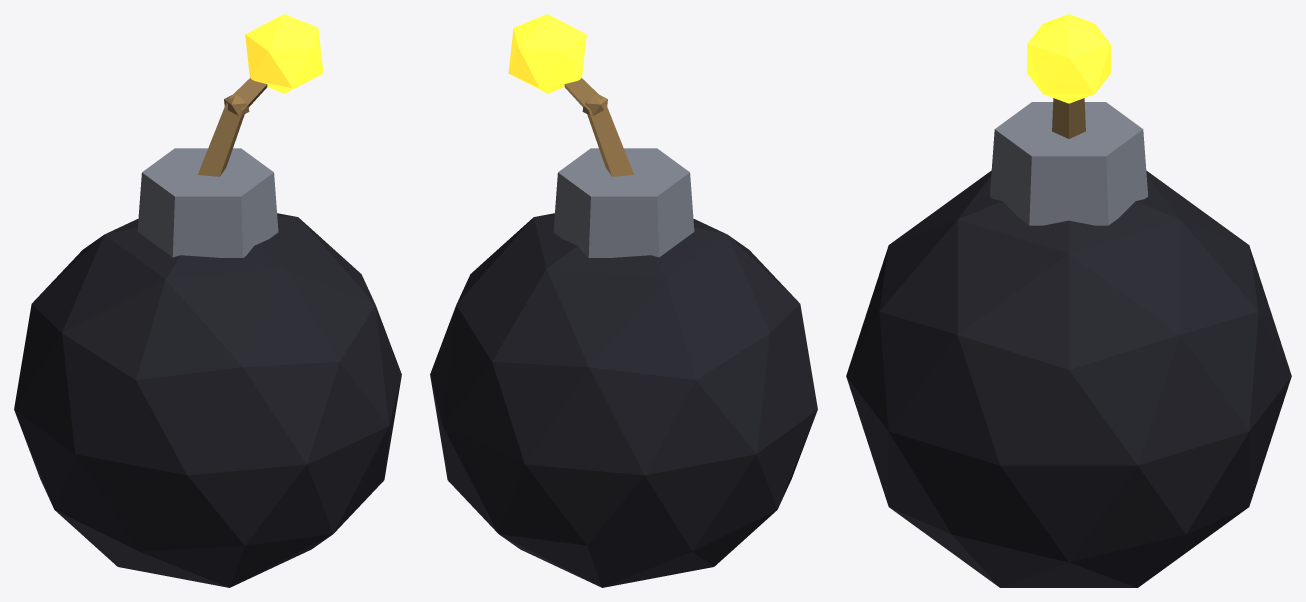
The model's file is Pickup_Bomb.fbx.
3 renders of one model, left to right at view 1: azimuth 30°, elevation 25°; view 2: azimuth 150°, elevation 25°; view 3: azimuth 270°, elevation 25°, orthographic. The views are drawn at different scales.
Visible parts, largest first — view 1: Body, Cap, Spark, Fuse; view 2: Body, Cap, Spark, Fuse; view 3: Body, Cap, Spark, Fuse.
Boxes of the visible parts, x1,y1,x2,y2 form: Body: [14, 213, 401, 587]; Cap: [137, 148, 278, 257]; Spark: [245, 14, 323, 93]; Fuse: [198, 78, 267, 176]; Body: [430, 213, 817, 587]; Cap: [553, 148, 694, 257]; Spark: [508, 14, 586, 93]; Fuse: [564, 78, 633, 176]; Body: [846, 170, 1291, 587]; Cap: [989, 102, 1148, 225]; Spark: [1027, 14, 1110, 103]; Fuse: [1052, 98, 1085, 138].
Size of the model in its own units: 1.71 by 2.7 by 1.8.
